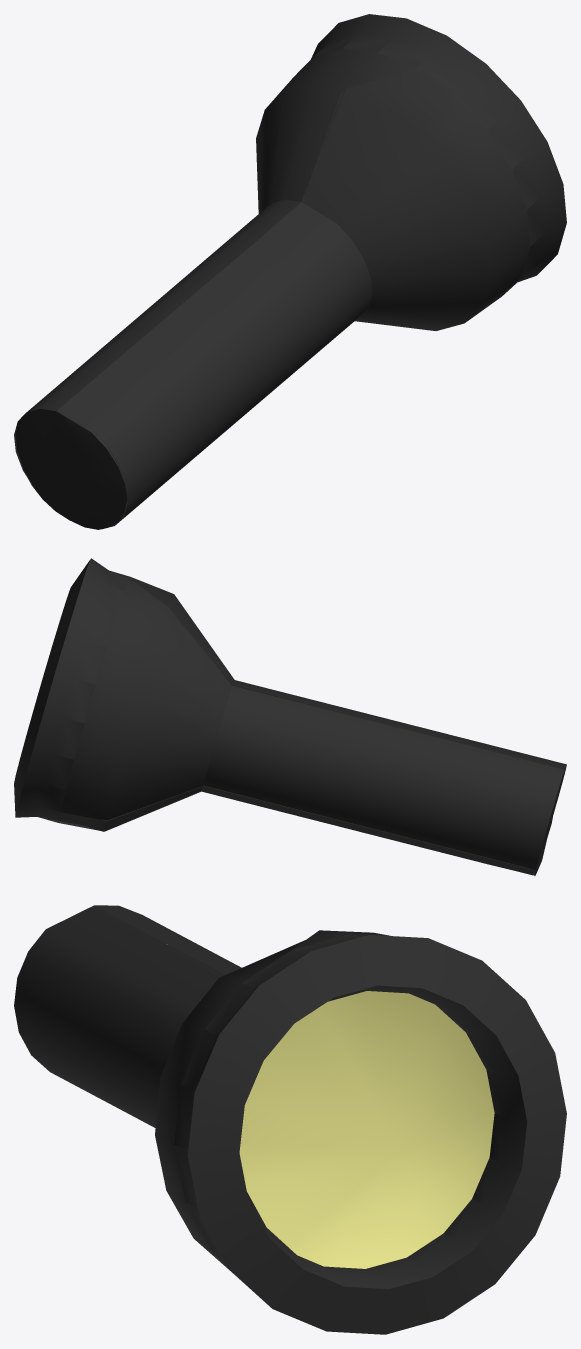
File: FlashLight1.fbx
3 renders of one model, top to bottom at view 1: azimuth 30°, elevation 25°; view 2: azimuth 150°, elevation 25°; view 3: azimuth 270°, elevation 25°, orthographic. The views are drawn at different scales.
Parts seen in each view (by area): view 1: flashlight_1:polySurface1; view 2: flashlight_1:polySurface1; view 3: flashlight_1:polySurface1.
Boxes of the visible parts, left/top/right/bottom form: flashlight_1:polySurface1: left=14, top=14, right=566, bottom=529; flashlight_1:polySurface1: left=14, top=558, right=566, bottom=875; flashlight_1:polySurface1: left=14, top=905, right=566, bottom=1334.
Size of the model in its own units: 4.42 by 2.43 by 2.96.
